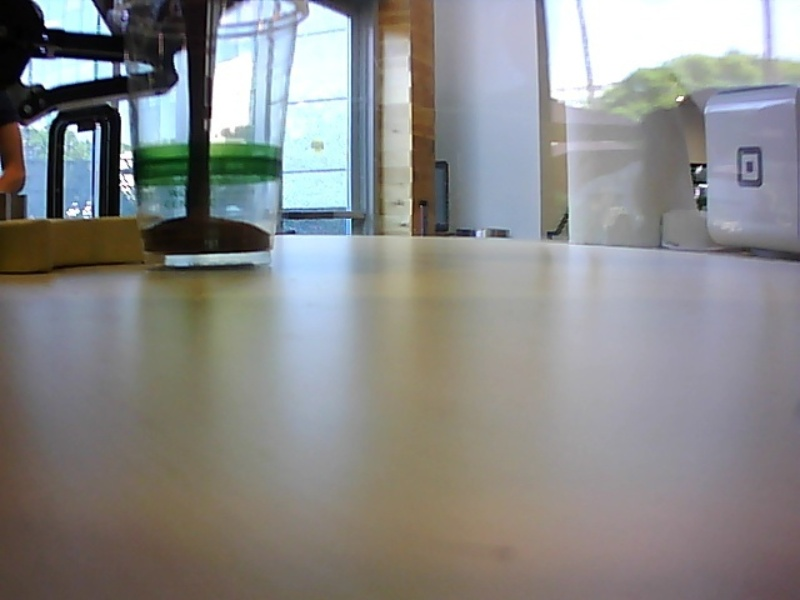cup: (109, 1, 314, 273)
limit: (138, 209, 277, 239)
